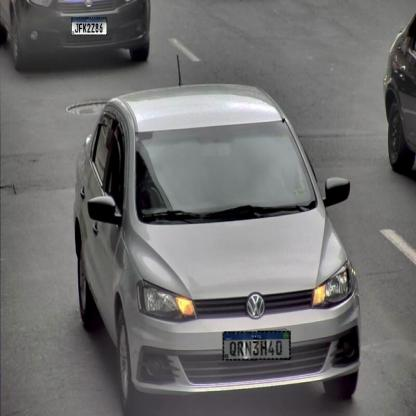PlacaM: (222, 330, 290, 360), (71, 18, 107, 36)
